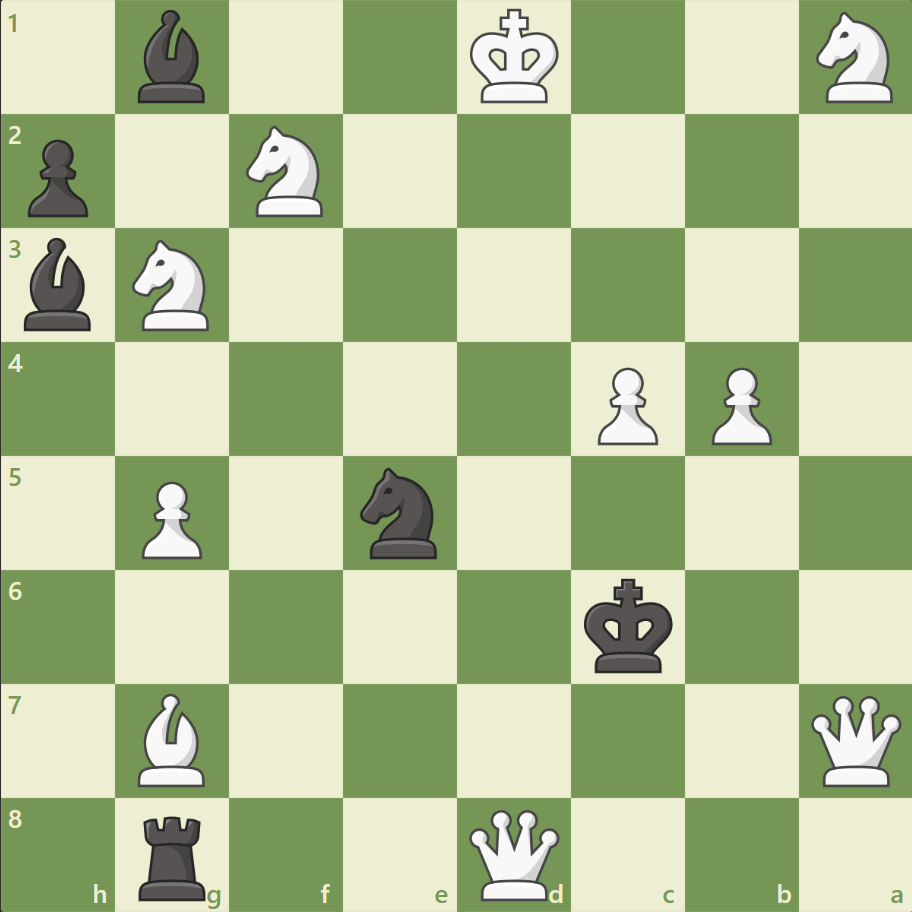B: (131, 687, 215, 790)
K: (465, 4, 565, 112)
N: (124, 234, 222, 337), (806, 7, 903, 110), (238, 121, 335, 223)
P: (133, 473, 208, 564), (701, 359, 776, 450), (588, 359, 662, 450)
Q: (464, 804, 563, 903), (805, 690, 904, 789)
b: (17, 233, 101, 336), (131, 6, 215, 109)
k: (579, 571, 679, 679)
n: (351, 461, 449, 564)
p: (20, 132, 95, 223)
r: (133, 806, 215, 904)
